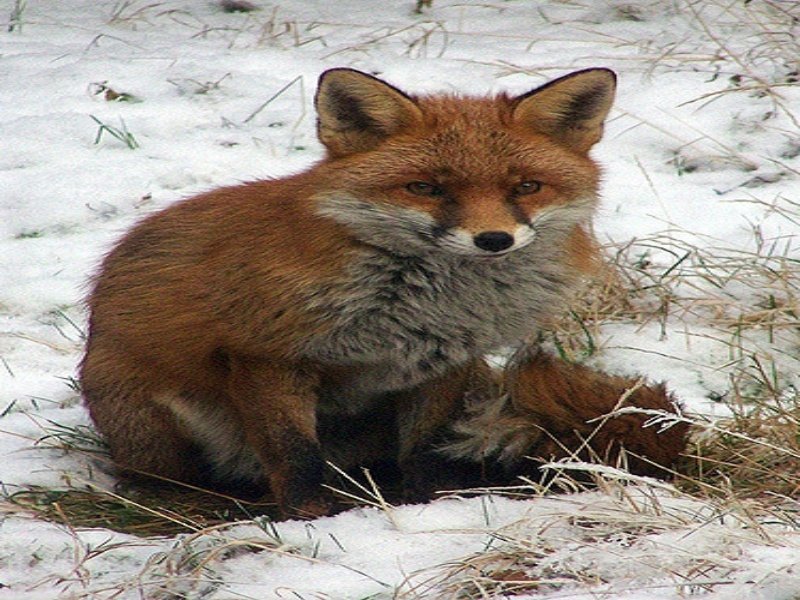fox: (69, 60, 706, 526)
